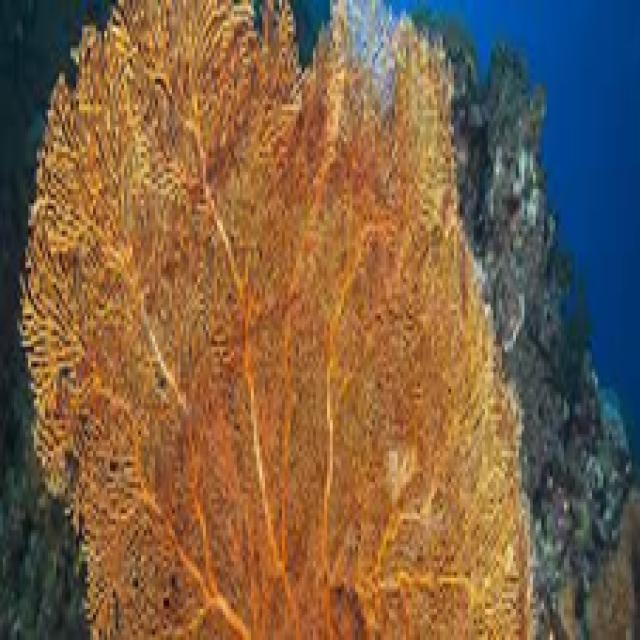Healthy: (41, 112, 452, 450), (81, 396, 527, 640), (71, 8, 457, 110)
